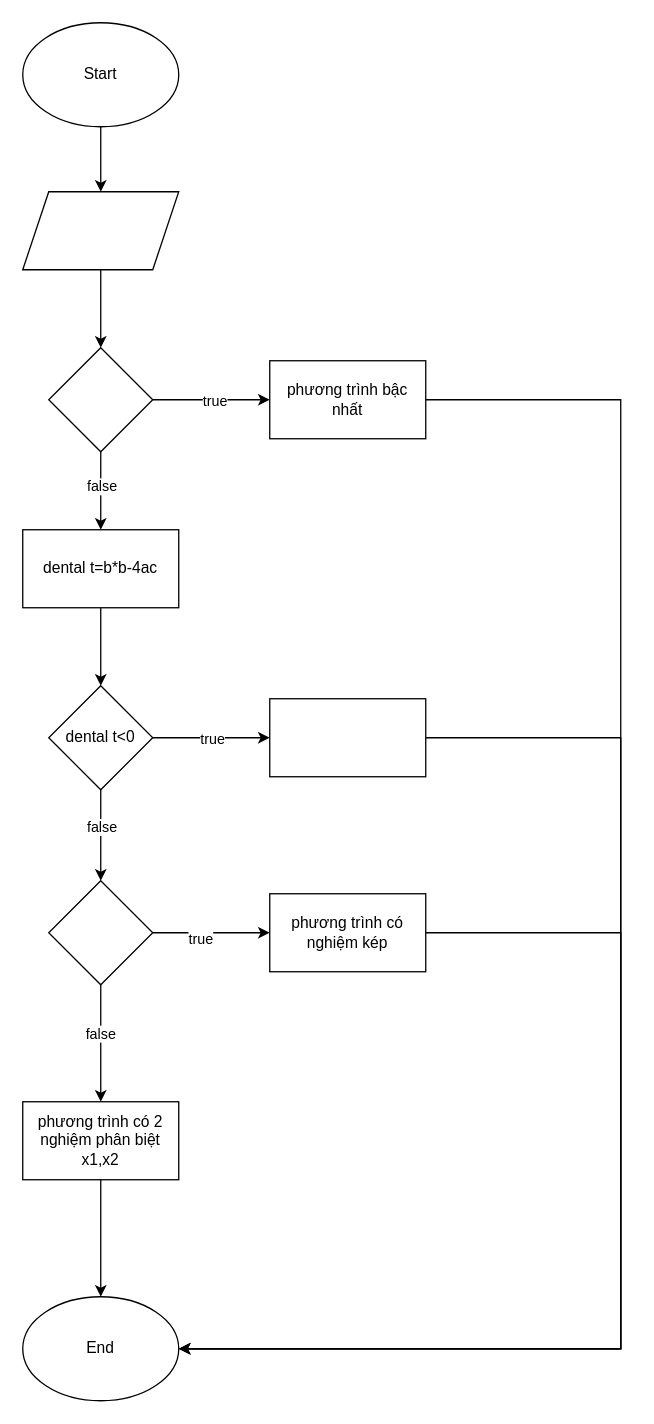
Image size: 654x1424. Some labels were removed from this diagram. The shapes that lost their labels are listed below. From the top down, each one's centre as x and y in pixels, then its label:
At pixel 100 230: "nhập a,b".
At pixel 100 399: "a=0".
At pixel 347 737: "phương trình vô nghiệm".
At pixel 100 932: "dental t=0".
